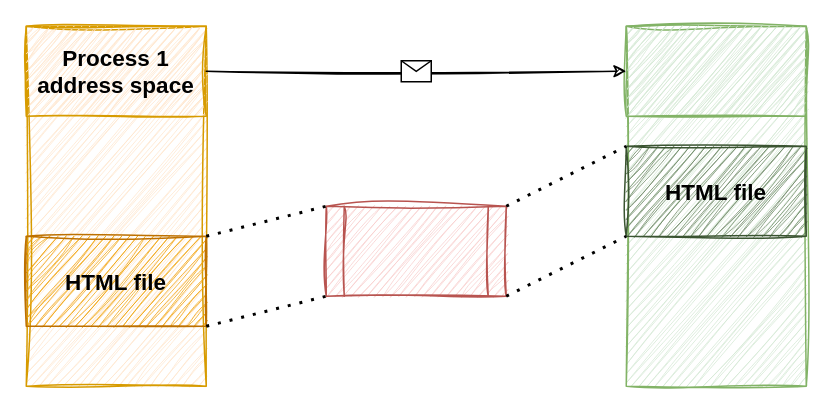
This 833x413 diagram has some shape labels left out. The centre of each missing label's shape, as x and y in pixels:
"OS shared memory" belongs at (x=415, y=250).
"Process 2 address space" belongs at (x=715, y=70).
